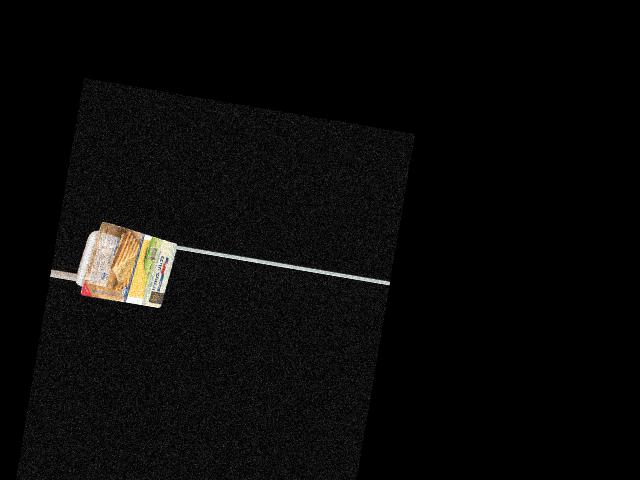cheese: (73, 220, 177, 306)
